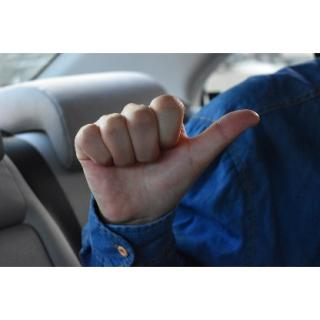DAD: (71, 91, 263, 226)
